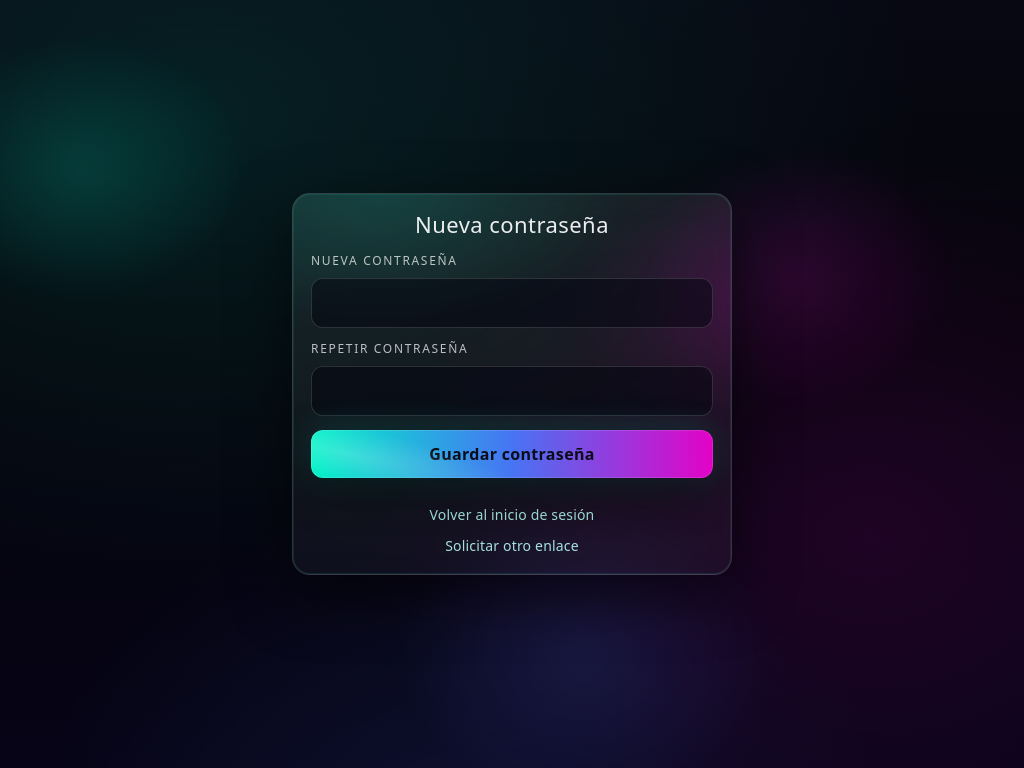
Test: ResetPasswordPage › validates matching passwords client-side
Step 1. Type "password123" into the password field with id "reset-password" → (512, 303), box [311,278,713,328]
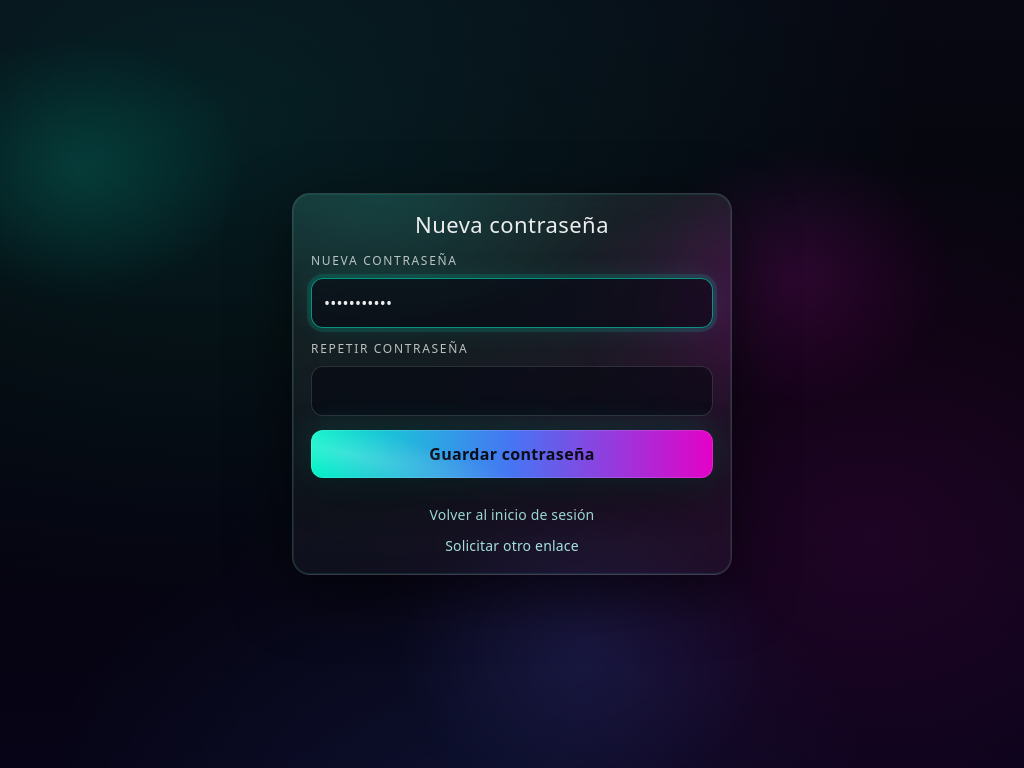
Step 2. Type "different123" into the password field with id "reset-password2" → (512, 391), box [311,366,713,416]
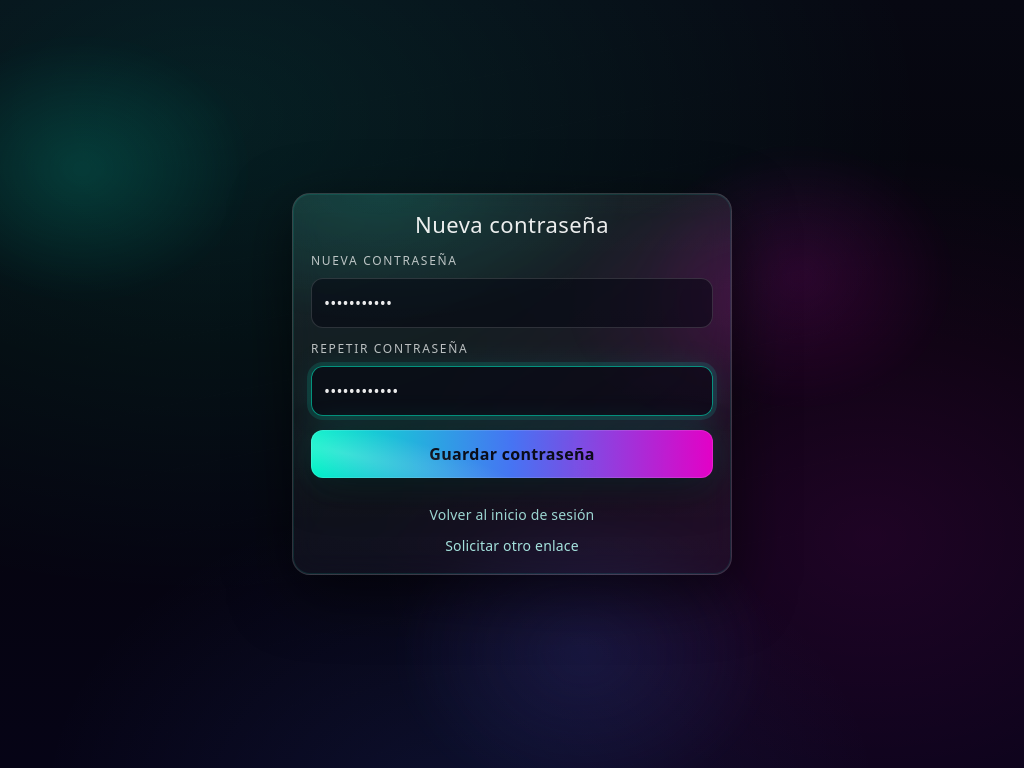
Step 3. Click the button "Guardar contraseña" → (512, 454), box [311,430,713,478]
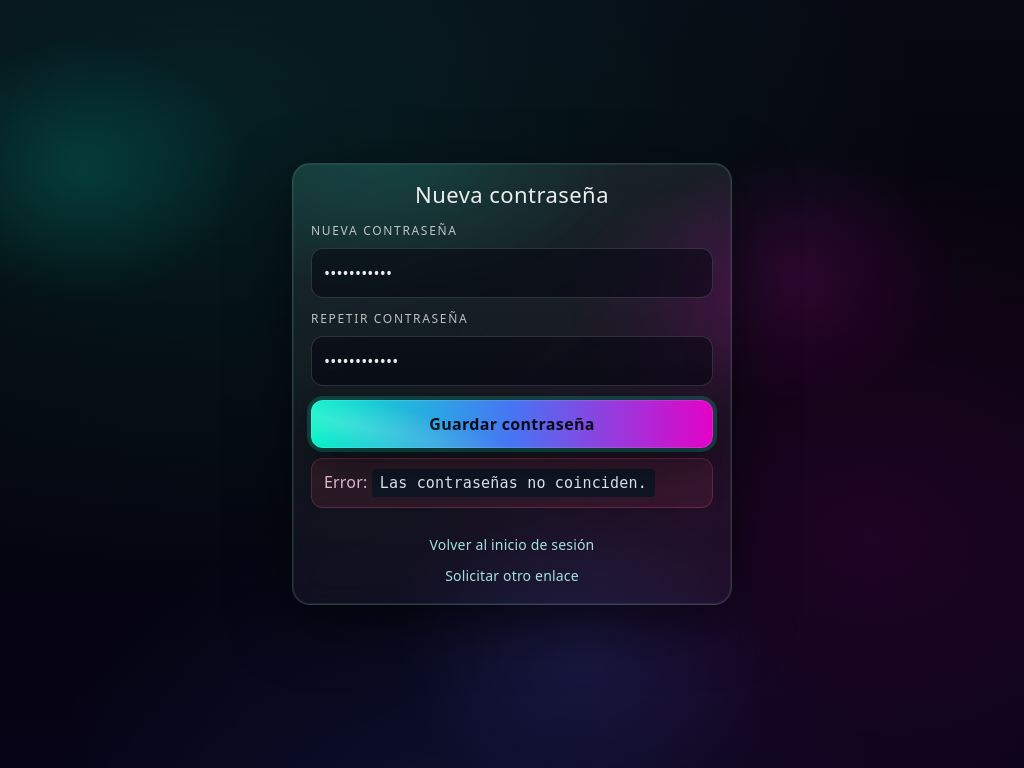
Check: the message shows "Las contraseñas no coinciden", box [380,474,647,492]
